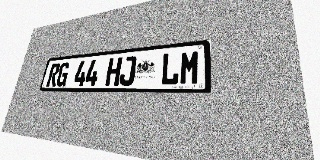4: (84, 59, 101, 86), (73, 60, 89, 86)
G: (55, 62, 71, 86)
H: (105, 57, 122, 86)
J: (119, 56, 137, 86)
L: (160, 52, 180, 85)
M: (179, 50, 200, 85)
R: (46, 63, 61, 86)
